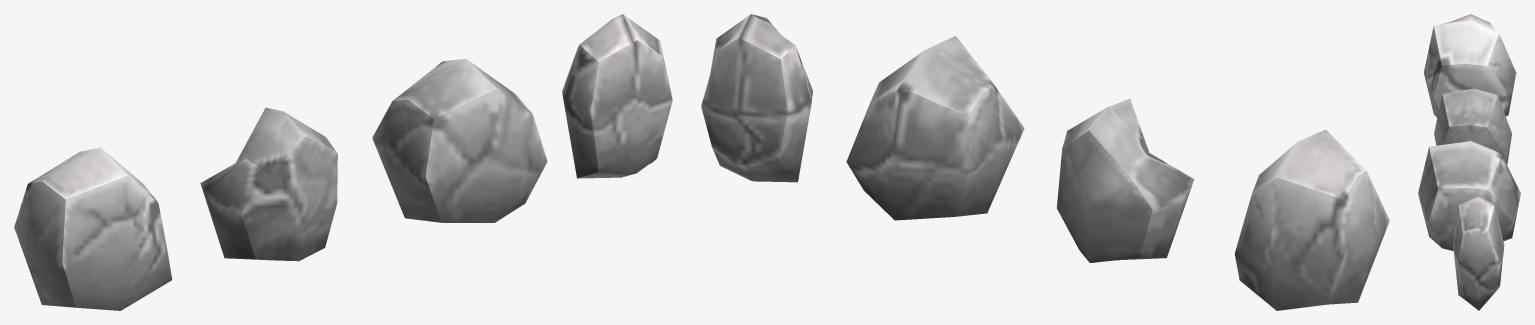
File: Stone1-4.fbx
3 views of the same model, side by side, from view 1: azimuth 30°, elevation 25°; view 2: azimuth 150°, elevation 25°; view 3: azimuth 270°, elevation 25° (orthographic). The views are drawn at different scales.
Visible parts, largest first — view 1: stone.003, stone.001, stone.002, stone.004; view 2: stone.003, stone.001, stone.002, stone.004; view 3: stone.003, stone.001, stone.004, stone.002.
Part boxes in pixels (x1,y1,x2,y2): stone.003: [372, 58, 547, 222]; stone.001: [14, 147, 172, 310]; stone.002: [200, 107, 337, 261]; stone.004: [562, 14, 672, 178]; stone.003: [846, 35, 1024, 220]; stone.001: [1234, 129, 1389, 310]; stone.002: [1056, 99, 1194, 262]; stone.004: [701, 14, 812, 182]; stone.003: [1418, 140, 1520, 250]; stone.001: [1423, 14, 1516, 117]; stone.004: [1453, 194, 1504, 310]; stone.002: [1434, 88, 1511, 164].
Size of the model in its own units: 826 by 200 by 168.
